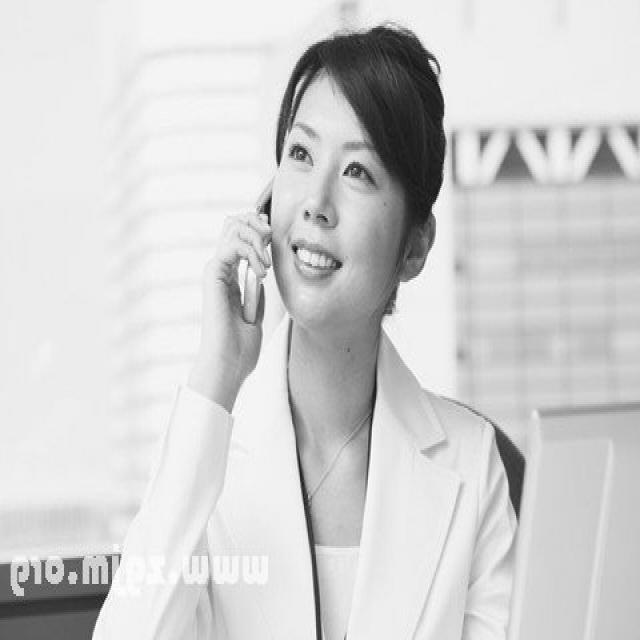phone: (213, 110, 328, 346)
